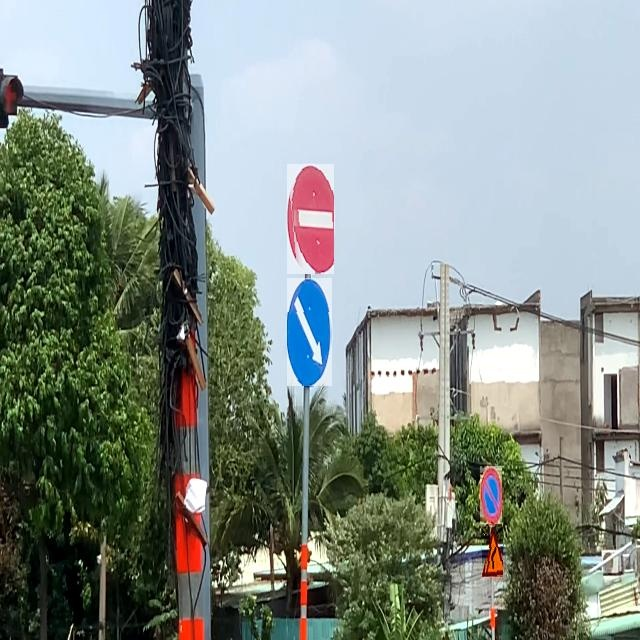bien_hieu_lenh: (287, 164, 334, 274), (287, 278, 332, 386), (480, 466, 502, 524), (482, 527, 503, 577)
